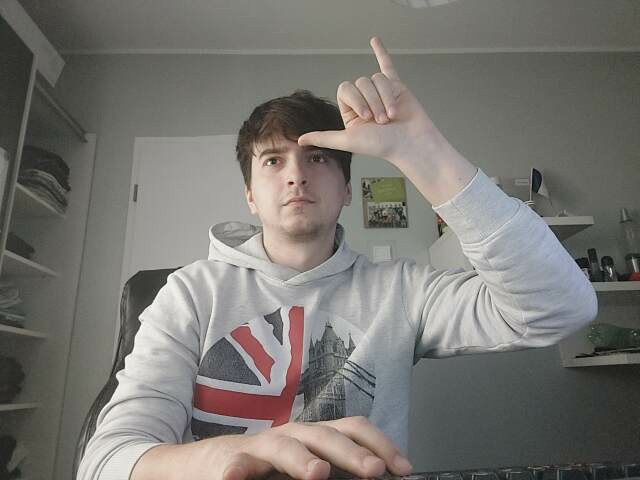play: (296, 36, 420, 153)
